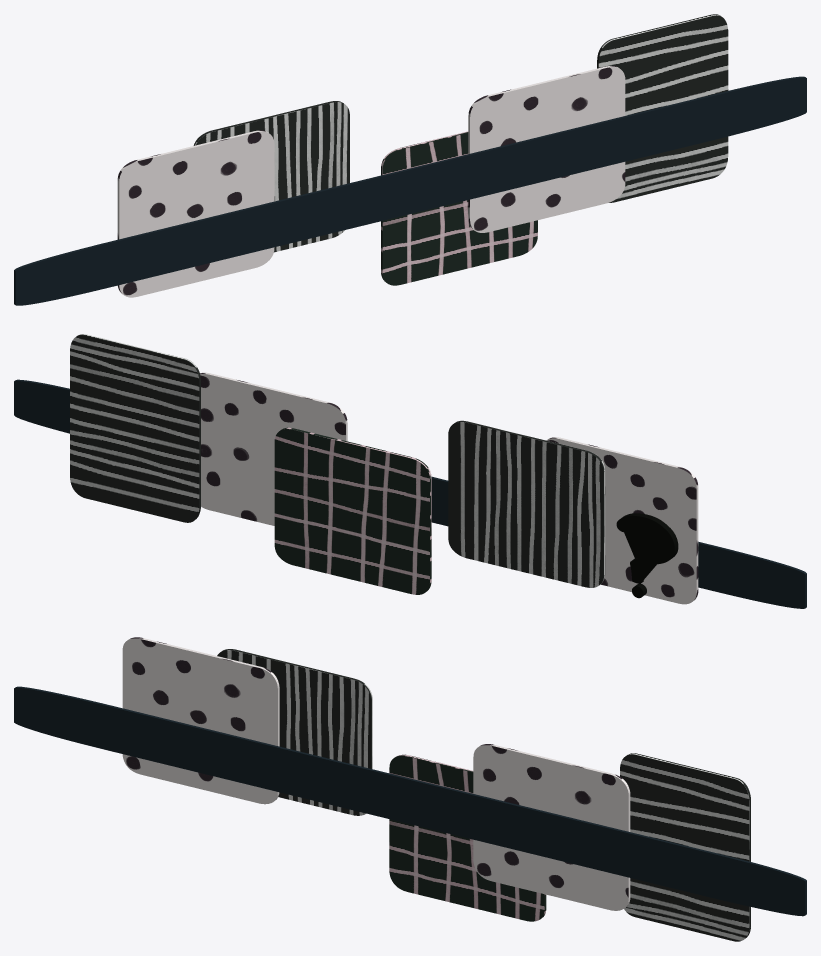
The model's file is 030_Shadows_Frame_2.fbx.
3 renders of one model, top to bottom at view 1: azimuth 30°, elevation 25°; view 2: azimuth 150°, elevation 25°; view 3: azimuth 330°, elevation 25°, orthographic.
Parts seen in each view (by area): view 1: CHIP2.018, CHIP2.019, CHIP2.010, CHIP2.020, CHIP2.013, CHIP2.017; view 2: CHIP2.017, CHIP2.013, CHIP2.020, CHIP2.010, CHIP2.019, CHIP2.018, Curve.005; view 3: CHIP2.018, CHIP2.020, CHIP2.019, CHIP2.010, CHIP2.013, CHIP2.017.
Part boxes in pixels (x1=…): CHIP2.018: x1=14, y1=76, x2=806, y2=305; CHIP2.019: x1=117, y1=130, x2=274, y2=297; CHIP2.010: x1=468, y1=66, x2=625, y2=232; CHIP2.020: x1=597, y1=14, x2=728, y2=202; CHIP2.013: x1=381, y1=131, x2=537, y2=285; CHIP2.017: x1=193, y1=101, x2=349, y2=252; CHIP2.017: x1=448, y1=420, x2=605, y2=587; CHIP2.013: x1=274, y1=427, x2=431, y2=594; CHIP2.020: x1=70, y1=334, x2=200, y2=522; CHIP2.010: x1=200, y1=372, x2=347, y2=525; CHIP2.019: x1=546, y1=437, x2=698, y2=604; CHIP2.018: x1=14, y1=379, x2=806, y2=608; Curve.005: x1=616, y1=513, x2=678, y2=598; CHIP2.018: x1=14, y1=686, x2=806, y2=916; CHIP2.020: x1=620, y1=753, x2=750, y2=941; CHIP2.019: x1=122, y1=637, x2=279, y2=804; CHIP2.010: x1=473, y1=744, x2=630, y2=910; CHIP2.013: x1=389, y1=754, x2=546, y2=921; CHIP2.017: x1=217, y1=649, x2=372, y2=815.
Bounding box in the file's own units: 529 × 122 × 15.13.
